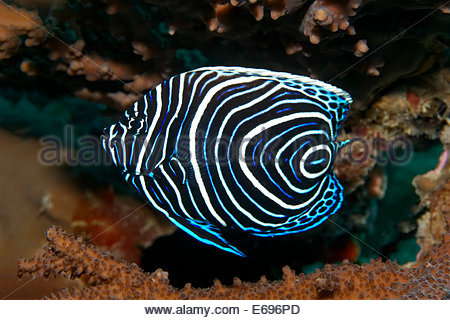Pomacanthus_imperator: (91, 59, 363, 265)
